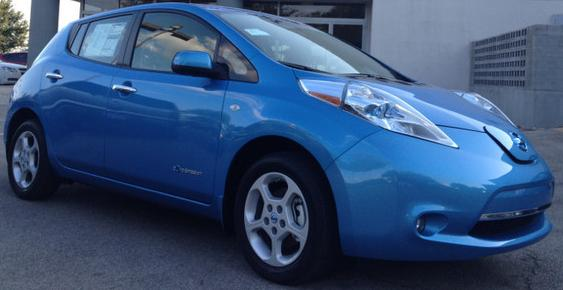front_view: (299, 60, 563, 283)
headlight: (285, 60, 480, 168)
side_glass: (61, 13, 252, 83)
